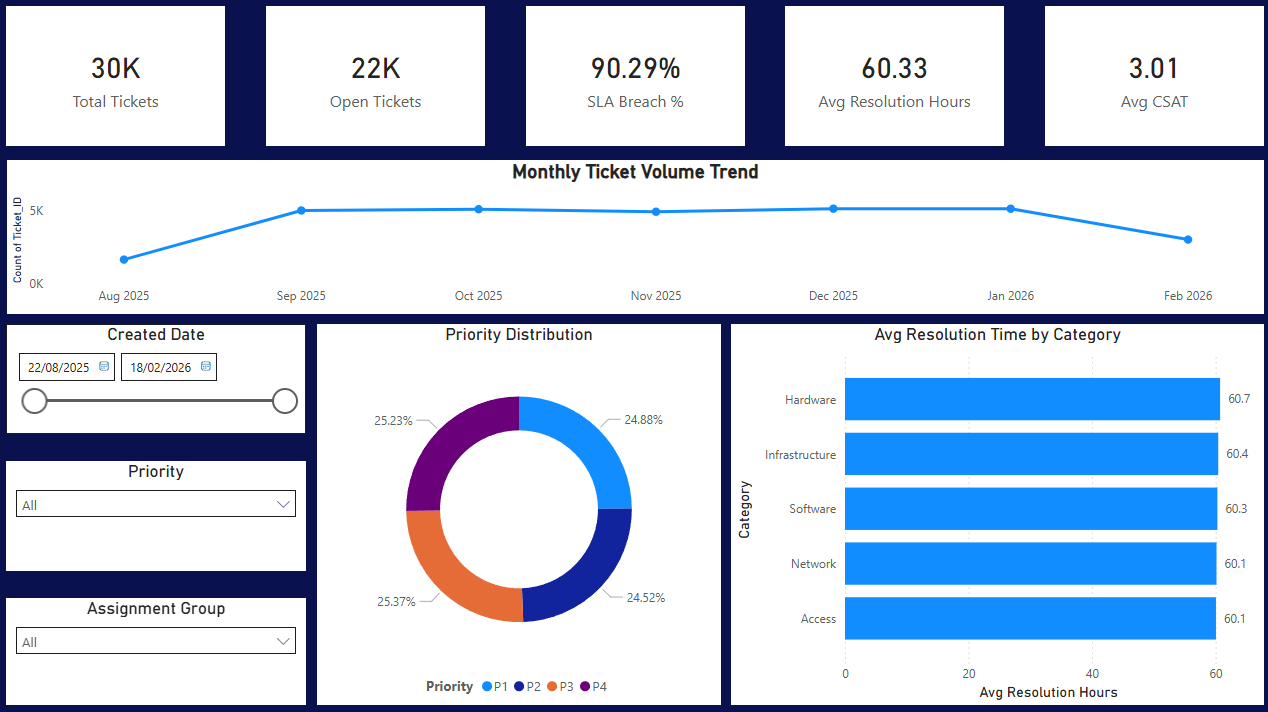

What the dashboard file says about the page in this screenshot:
{"tool":"powerbi","page":{"name":"Page 1","canvas":[1280,720],"ordinal":0},"visuals":[{"type":"card","fields":{"Values":["Tickets.Total Tickets"]},"box":[10,8,219,140],"z":0},{"type":"card","fields":{"Values":["Tickets.Open Tickets"]},"box":[269.8,8,219,140],"z":1000},{"type":"card","fields":{"Values":["Tickets.Avg Resolution Hours"]},"box":[789.2,8,219,140],"z":2000},{"type":"card","fields":{"Values":["Tickets.SLA Breach %"]},"box":[529.5,8,219,140],"z":3000},{"type":"card","fields":{"Values":["Tickets.Avg CSAT"]},"box":[1049,8,219,140],"z":4000},{"type":"lineChart","title":"Monthly Ticket Volume Trend","fields":{"Y":["CountNonNull(Tickets.Ticket_ID)"],"Category":["Tickets.Month Year"]},"box":[11,162,1257,154],"z":5000},{"type":"donutChart","title":"Priority Distribution","fields":{"Category":["Tickets.Priority"],"Y":["CountNonNull(Tickets.Ticket_ID)"]},"box":[321,326,404,381],"z":6000},{"type":"clusteredBarChart","title":"Avg Resolution Time by Category","fields":{"Category":["Tickets.Category"],"Y":["Tickets.Avg Resolution Hours"]},"box":[735,326,533,381],"z":7000},{"type":"slicer","title":"Created Date","fields":{"Values":["Tickets.Created_Date"]},"box":[10,326,300,110],"z":8000},{"type":"slicer","title":"Priority","fields":{"Values":["Tickets.Priority"]},"box":[10,463,300,110],"z":9000},{"type":"slicer","title":"Assignment Group","fields":{"Values":["Tickets.Assignment_Group"]},"box":[10,600,300,107],"z":10000}]}

Visuals, with their boxes in screenshot pixels (x1, y1, x2, y2), scaled from the page's 1280x720 canvas onto the 1268x712 screenshot:
card - Tickets.Total Tickets: (left=10, top=8, right=227, bottom=146)
card - Tickets.Open Tickets: (left=267, top=8, right=484, bottom=146)
card - Tickets.Avg Resolution Hours: (left=782, top=8, right=999, bottom=146)
card - Tickets.SLA Breach %: (left=525, top=8, right=741, bottom=146)
card - Tickets.Avg CSAT: (left=1039, top=8, right=1256, bottom=146)
"Monthly Ticket Volume Trend" lineChart: (left=11, top=160, right=1256, bottom=312)
"Priority Distribution" donutChart: (left=318, top=322, right=718, bottom=699)
"Avg Resolution Time by Category" clusteredBarChart: (left=728, top=322, right=1256, bottom=699)
"Created Date" slicer: (left=10, top=322, right=307, bottom=431)
"Priority" slicer: (left=10, top=458, right=307, bottom=567)
"Assignment Group" slicer: (left=10, top=593, right=307, bottom=699)
